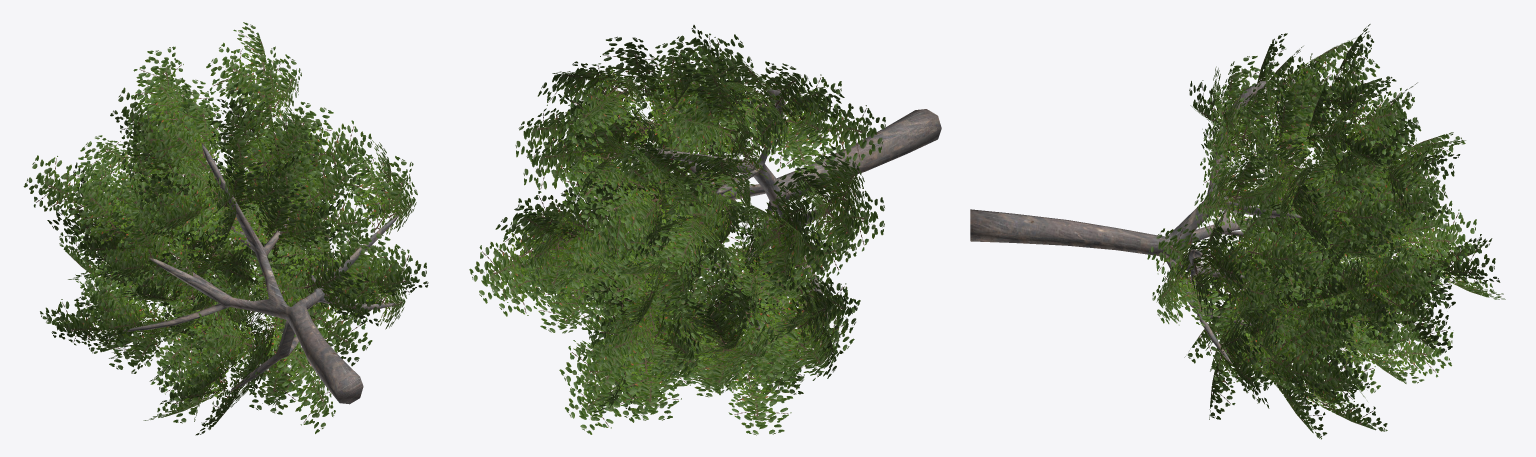
The model's file is wit_02.fbx.
The picture shows the model from 3 angles, left to right: view 1: azimuth 30°, elevation 25°; view 2: azimuth 150°, elevation 25°; view 3: azimuth 270°, elevation 25°; orthographic projection. The views are drawn at different scales.
Visible parts, largest first — view 1: Cube; view 2: Cube; view 3: Cube.
Part boxes in pixels (x1,y1,x2,y2): Cube: [23, 22, 428, 435]; Cube: [469, 25, 941, 435]; Cube: [970, 24, 1505, 439].
Bounding box in the file's own units: 1350 × 1431 × 1895.
